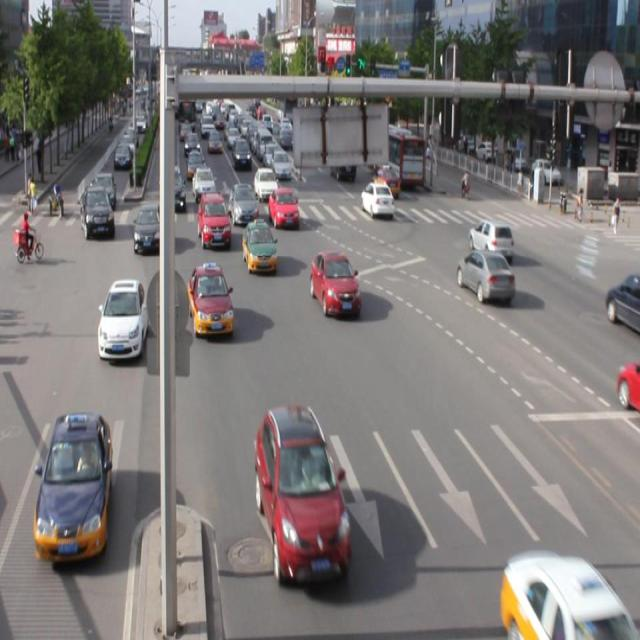car: (254, 403, 350, 582), (499, 547, 639, 640), (36, 410, 113, 556), (99, 278, 148, 360), (310, 250, 361, 319), (188, 263, 234, 337), (455, 248, 513, 303), (602, 272, 640, 334), (467, 218, 513, 262), (242, 217, 276, 274), (198, 192, 231, 250), (133, 201, 164, 254)
